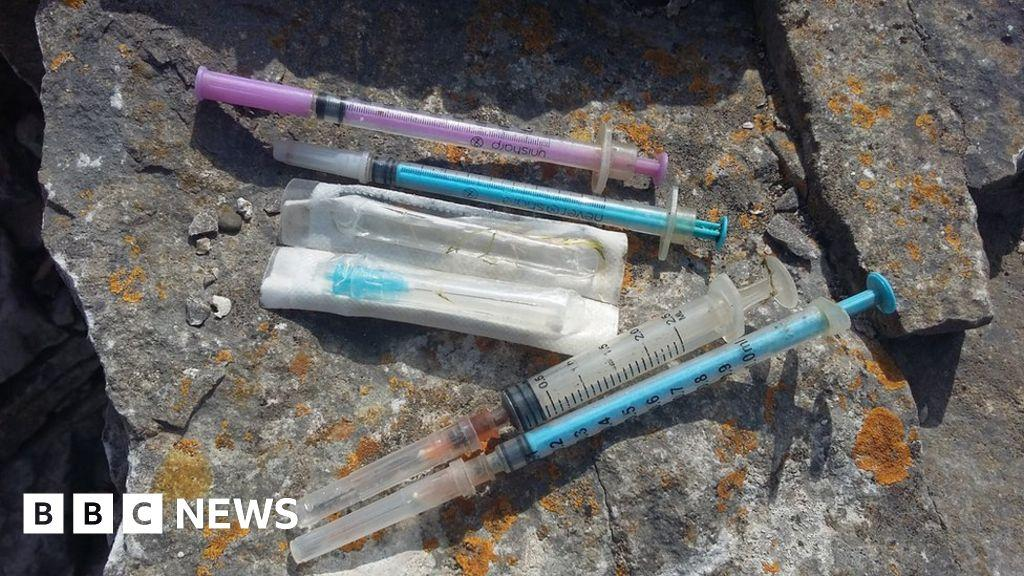Syringe: (290, 273, 895, 561), (297, 257, 796, 525), (195, 67, 667, 193), (273, 141, 727, 258)
